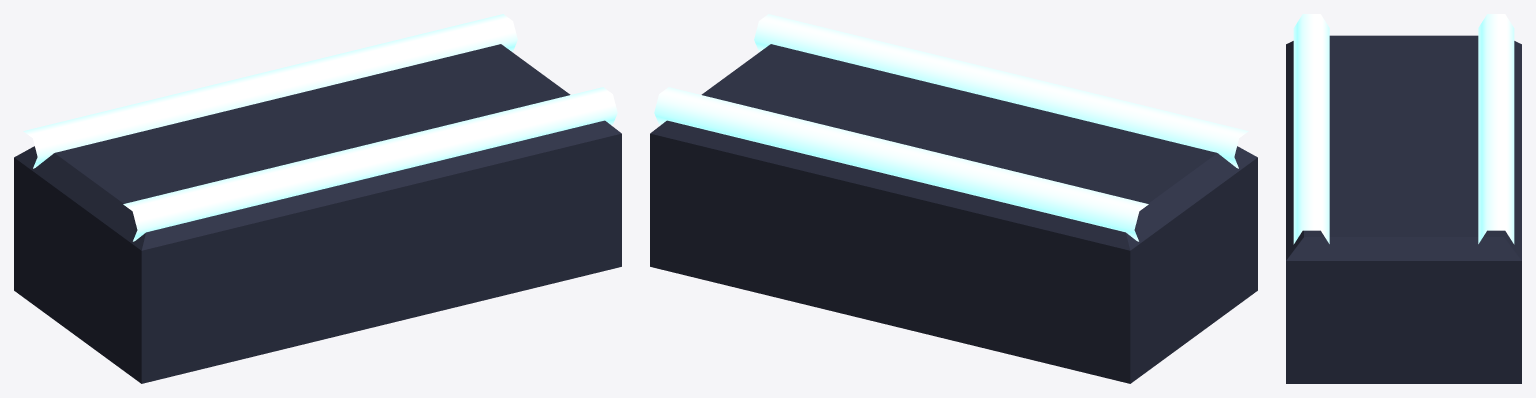
The model's file is wall_straight.glb.
3 renders of one model, left to right at view 1: azimuth 30°, elevation 25°; view 2: azimuth 150°, elevation 25°; view 3: azimuth 270°, elevation 25°, orthographic. The views are drawn at different scales.
Parts seen in each view (by area): view 1: wall_straight; view 2: wall_straight; view 3: wall_straight.
Part boxes in pixels (left/top/right/bottom): wall_straight: left=14, top=14, right=621, bottom=383; wall_straight: left=650, top=14, right=1257, bottom=383; wall_straight: left=1286, top=14, right=1521, bottom=383.
Size of the model in its own units: 1 by 0.3303 by 0.46.
